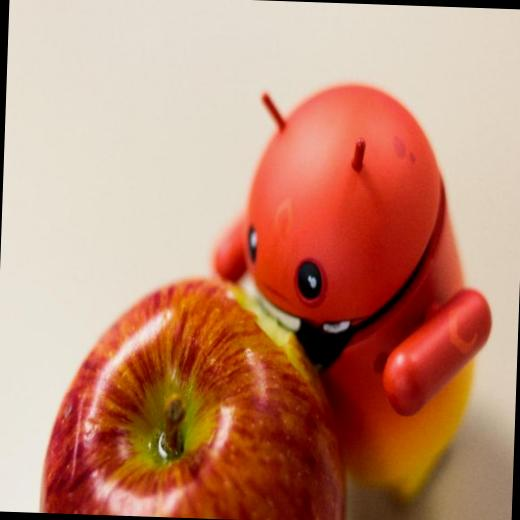Apple: (45, 267, 355, 520)
